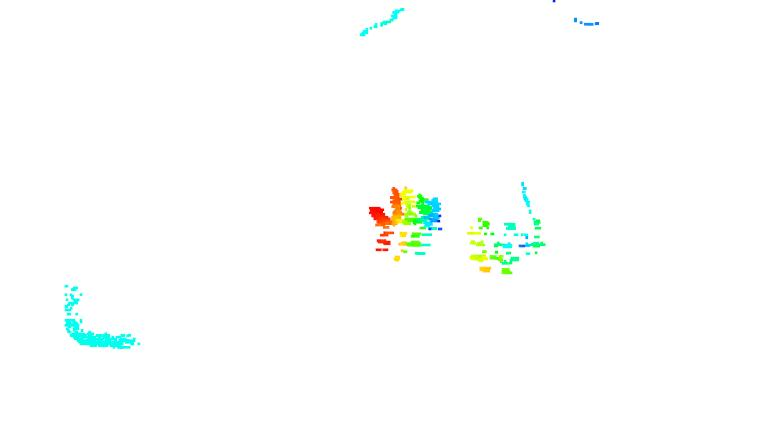chickpea: (364, 184, 443, 261), (467, 216, 544, 276)
